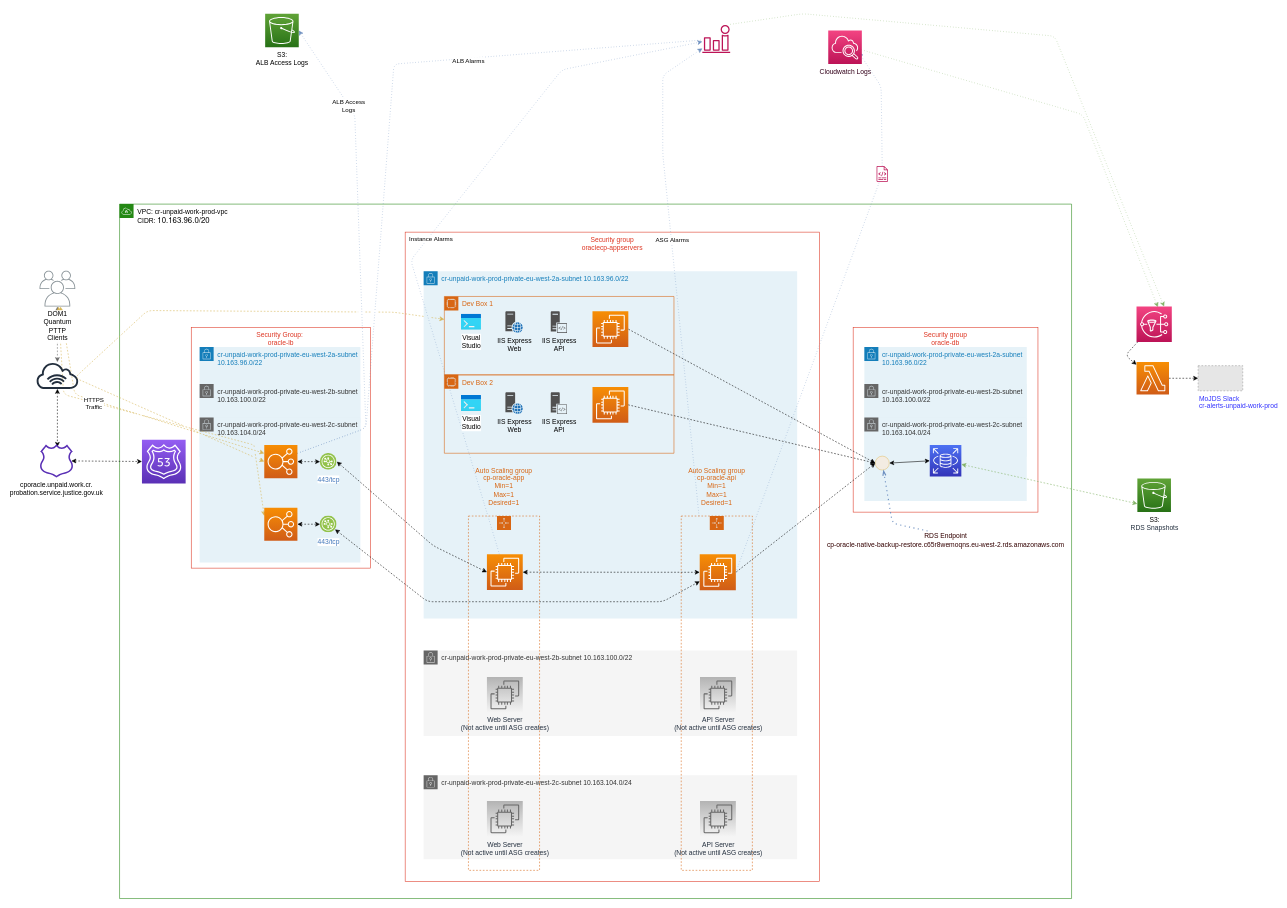
Some shapes in this 1287 by 908 pixel diagram are drawn without their labels. Grey dashed boxes stand in for pictures. The shapes that lost their labels are listed below. From the top down, each one's centre as x and y in pixels, then its label:
the point at 716,39: Cloudwatch Alarms
the point at 882,173: Logs: CPOracle
the point at 610,329: Dev Box 1 cr-unpaid-work-dev-admin1
the point at 1154,324: SNS
the point at 57,375: Public Internet
the point at 1152,378: Lambda Slack Notifications
the point at 610,404: Dev Box 2 cr-unpaid-work-dev-admin2
the point at 163,461: Route 53
the point at 280,461: Website Load Balancer cp-oracle-lb
the point at 945,460: RDS Multi AZ (MS SQLServer) cp-oracle-native-backup-restore
the point at 280,524: API Load Balancer cp-oracle-lb-api
the point at 504,572: Web Server cp-oracle-app
the point at 717,572: API Server cp-oracle-api
